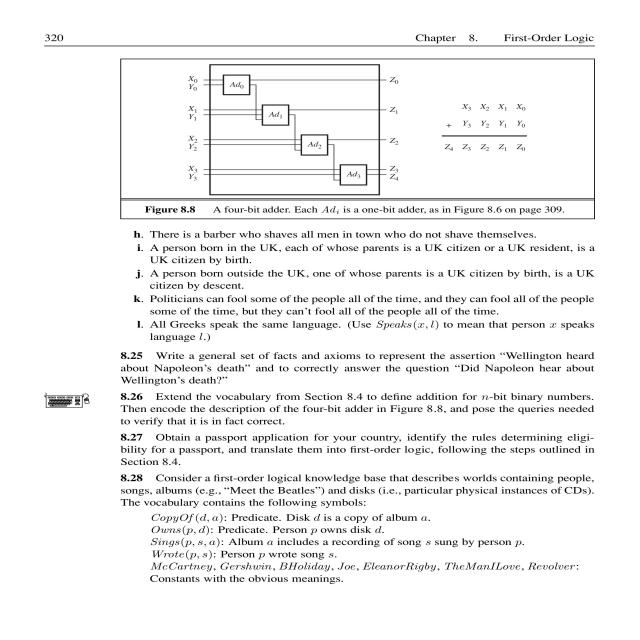diagram: (121, 59, 627, 228)
